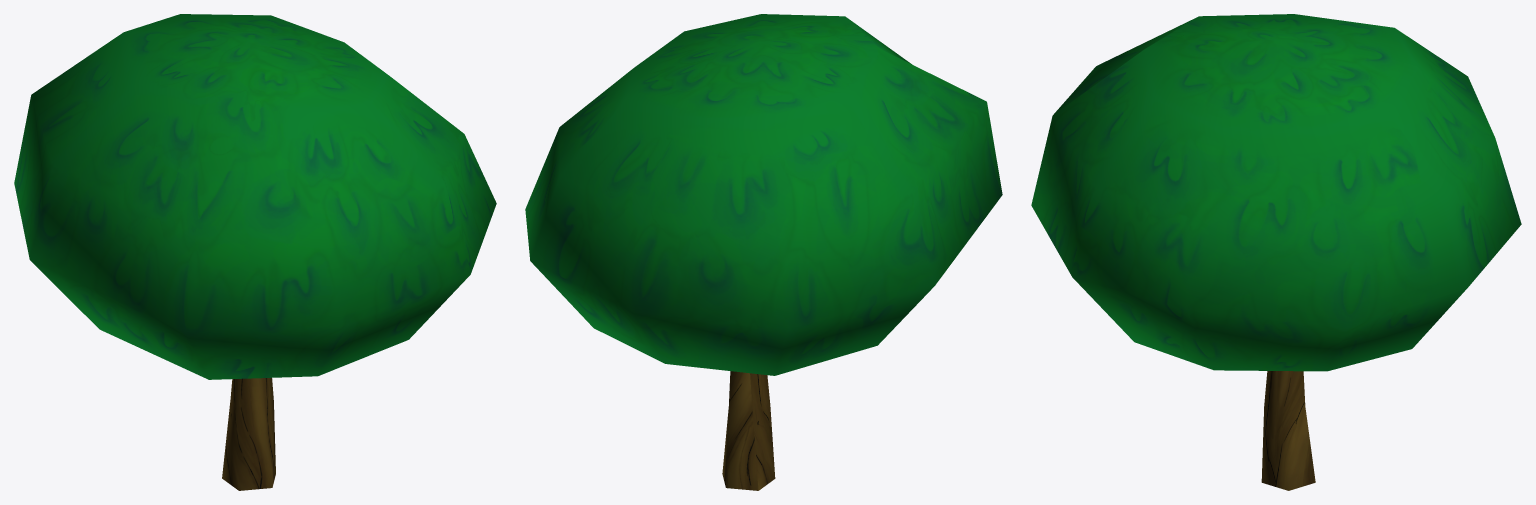
Rendered from Tree1.FBX.
The picture shows the model from 3 angles, left to right: view 1: azimuth 30°, elevation 25°; view 2: azimuth 150°, elevation 25°; view 3: azimuth 270°, elevation 25°; orthographic projection. The views are drawn at different scales.
Visible parts, largest first — view 1: Leaves_02, Tree_Trunk_01; view 2: Leaves_02, Tree_Trunk_01; view 3: Leaves_02, Tree_Trunk_01.
Part boxes in pixels (<box>): Leaves_02: <box>14,14,496,379</box>; Tree_Trunk_01: <box>222,378,275,490</box>; Leaves_02: <box>525,14,1002,375</box>; Tree_Trunk_01: <box>722,371,775,490</box>; Leaves_02: <box>1031,14,1521,371</box>; Tree_Trunk_01: <box>1261,371,1315,490</box>.
Bounding box in the file's own units: 11.82 × 12.46 × 12.72.
Materials: 1 (1 with a texture image).
